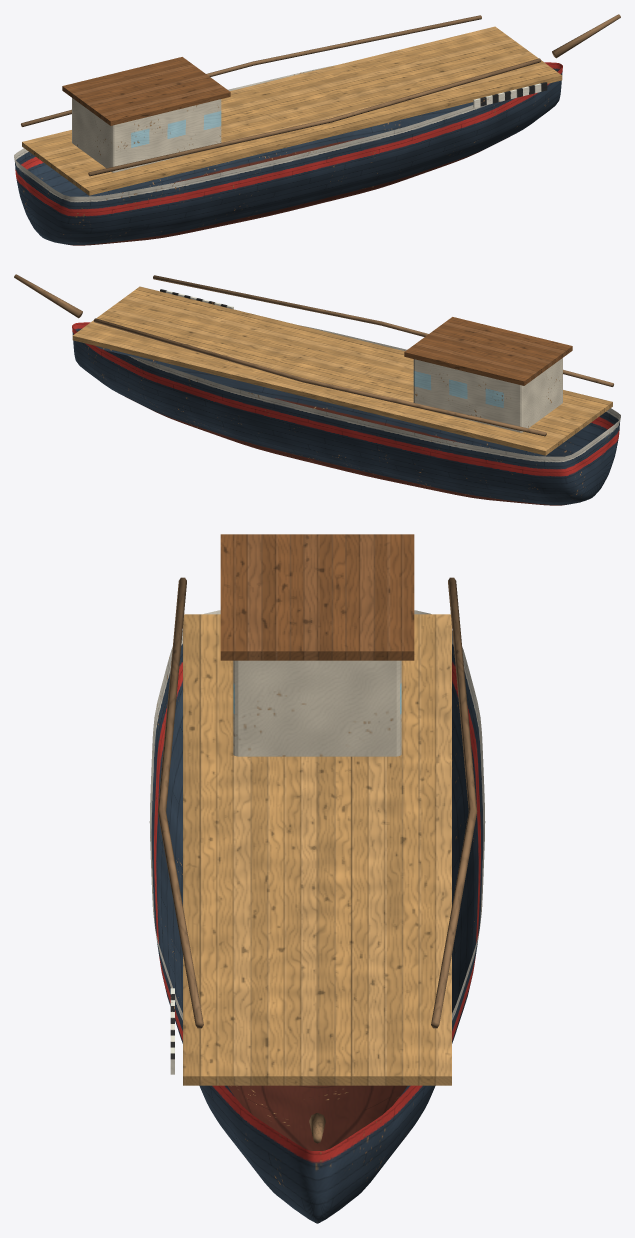
File: albatros.glb
The picture shows the model from 3 angles, top to bottom: view 1: azimuth 30°, elevation 25°; view 2: azimuth 150°, elevation 25°; view 3: azimuth 270°, elevation 25°; orthographic projection. The views are drawn at different scales.
Visible parts, largest first — view 1: Albatros; view 2: Albatros; view 3: Albatros.
Part boxes in pixels (x1,y1,x2,y2): Albatros: (14,14,620,245); Albatros: (14,274,620,505); Albatros: (149,534,485,1223).
Bounding box in the file's own units: 16.02 × 3.9 × 3.99.
Materials: 1 (1 with a texture image).
